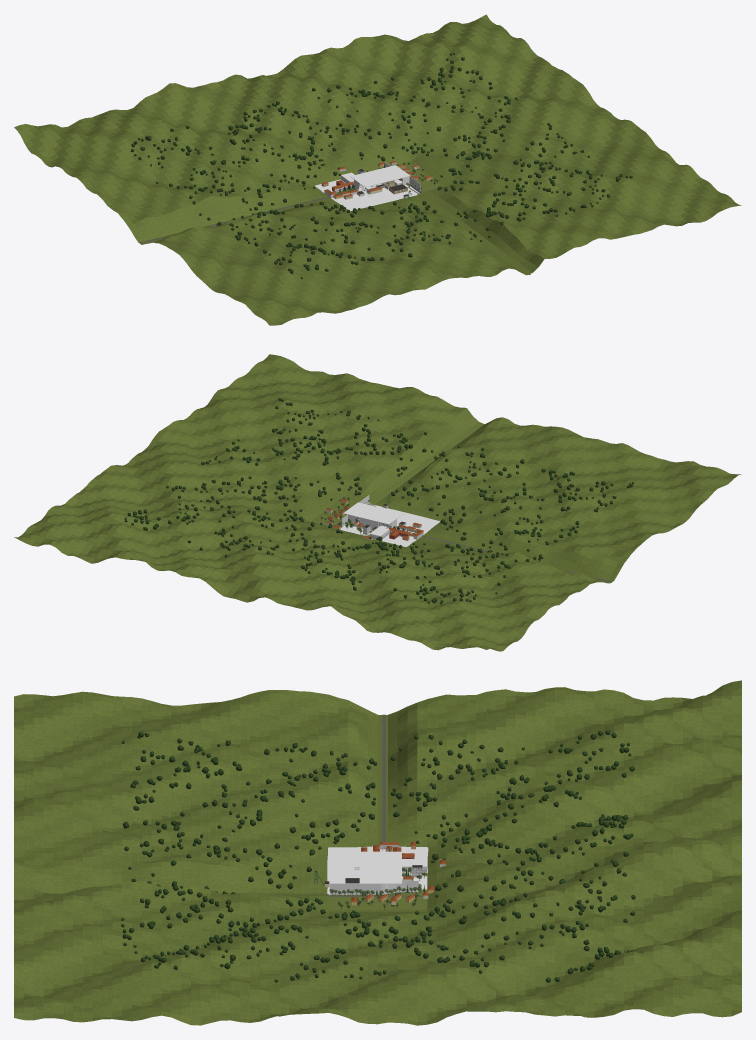
File: parking_lot.glb
3 renders of one model, top to bottom at view 1: azimuth 30°, elevation 25°; view 2: azimuth 150°, elevation 25°; view 3: azimuth 270°, elevation 25°, orthographic. The views are drawn at different scales.
Parts seen in each view (by area): view 1: Backdrop.terrain, Backdrop.forest, COL_ground_001, Backdrop.buildings, CLIP_bound_012; view 2: Backdrop.terrain, Backdrop.forest, COL_ground_001, Backdrop.buildings, CLIP_bound_012; view 3: Backdrop.terrain, Backdrop.forest, COL_ground_001, CLIP_bound_012, Ground.plateau, Backdrop.buildings, Foliage.far, CLIP_bound_006.
Boxes of the visible parts, bbox=[...] form: Backdrop.terrain: bbox=[14, 14, 741, 325]; Backdrop.forest: bbox=[130, 53, 632, 279]; COL_ground_001: bbox=[315, 179, 419, 211]; Backdrop.buildings: bbox=[321, 161, 432, 199]; CLIP_bound_012: bbox=[350, 165, 410, 187]; Backdrop.terrain: bbox=[14, 354, 741, 651]; Backdrop.forest: bbox=[124, 398, 633, 604]; COL_ground_001: bbox=[358, 504, 440, 546]; Backdrop.buildings: bbox=[325, 494, 423, 540]; CLIP_bound_012: bbox=[343, 502, 403, 524]; Backdrop.terrain: bbox=[14, 680, 741, 1025]; Backdrop.forest: bbox=[121, 730, 635, 982]; COL_ground_001: bbox=[327, 846, 428, 894]; CLIP_bound_012: bbox=[359, 851, 401, 883]; Ground.plateau: bbox=[328, 892, 427, 910]; Backdrop.buildings: bbox=[314, 842, 445, 905]; Foliage.far: bbox=[329, 867, 426, 909]; CLIP_bound_006: bbox=[329, 883, 380, 894].
Size of the model in its own units: 1580 by 108 by 1480.
Materials: 142 (88 with a texture image).
